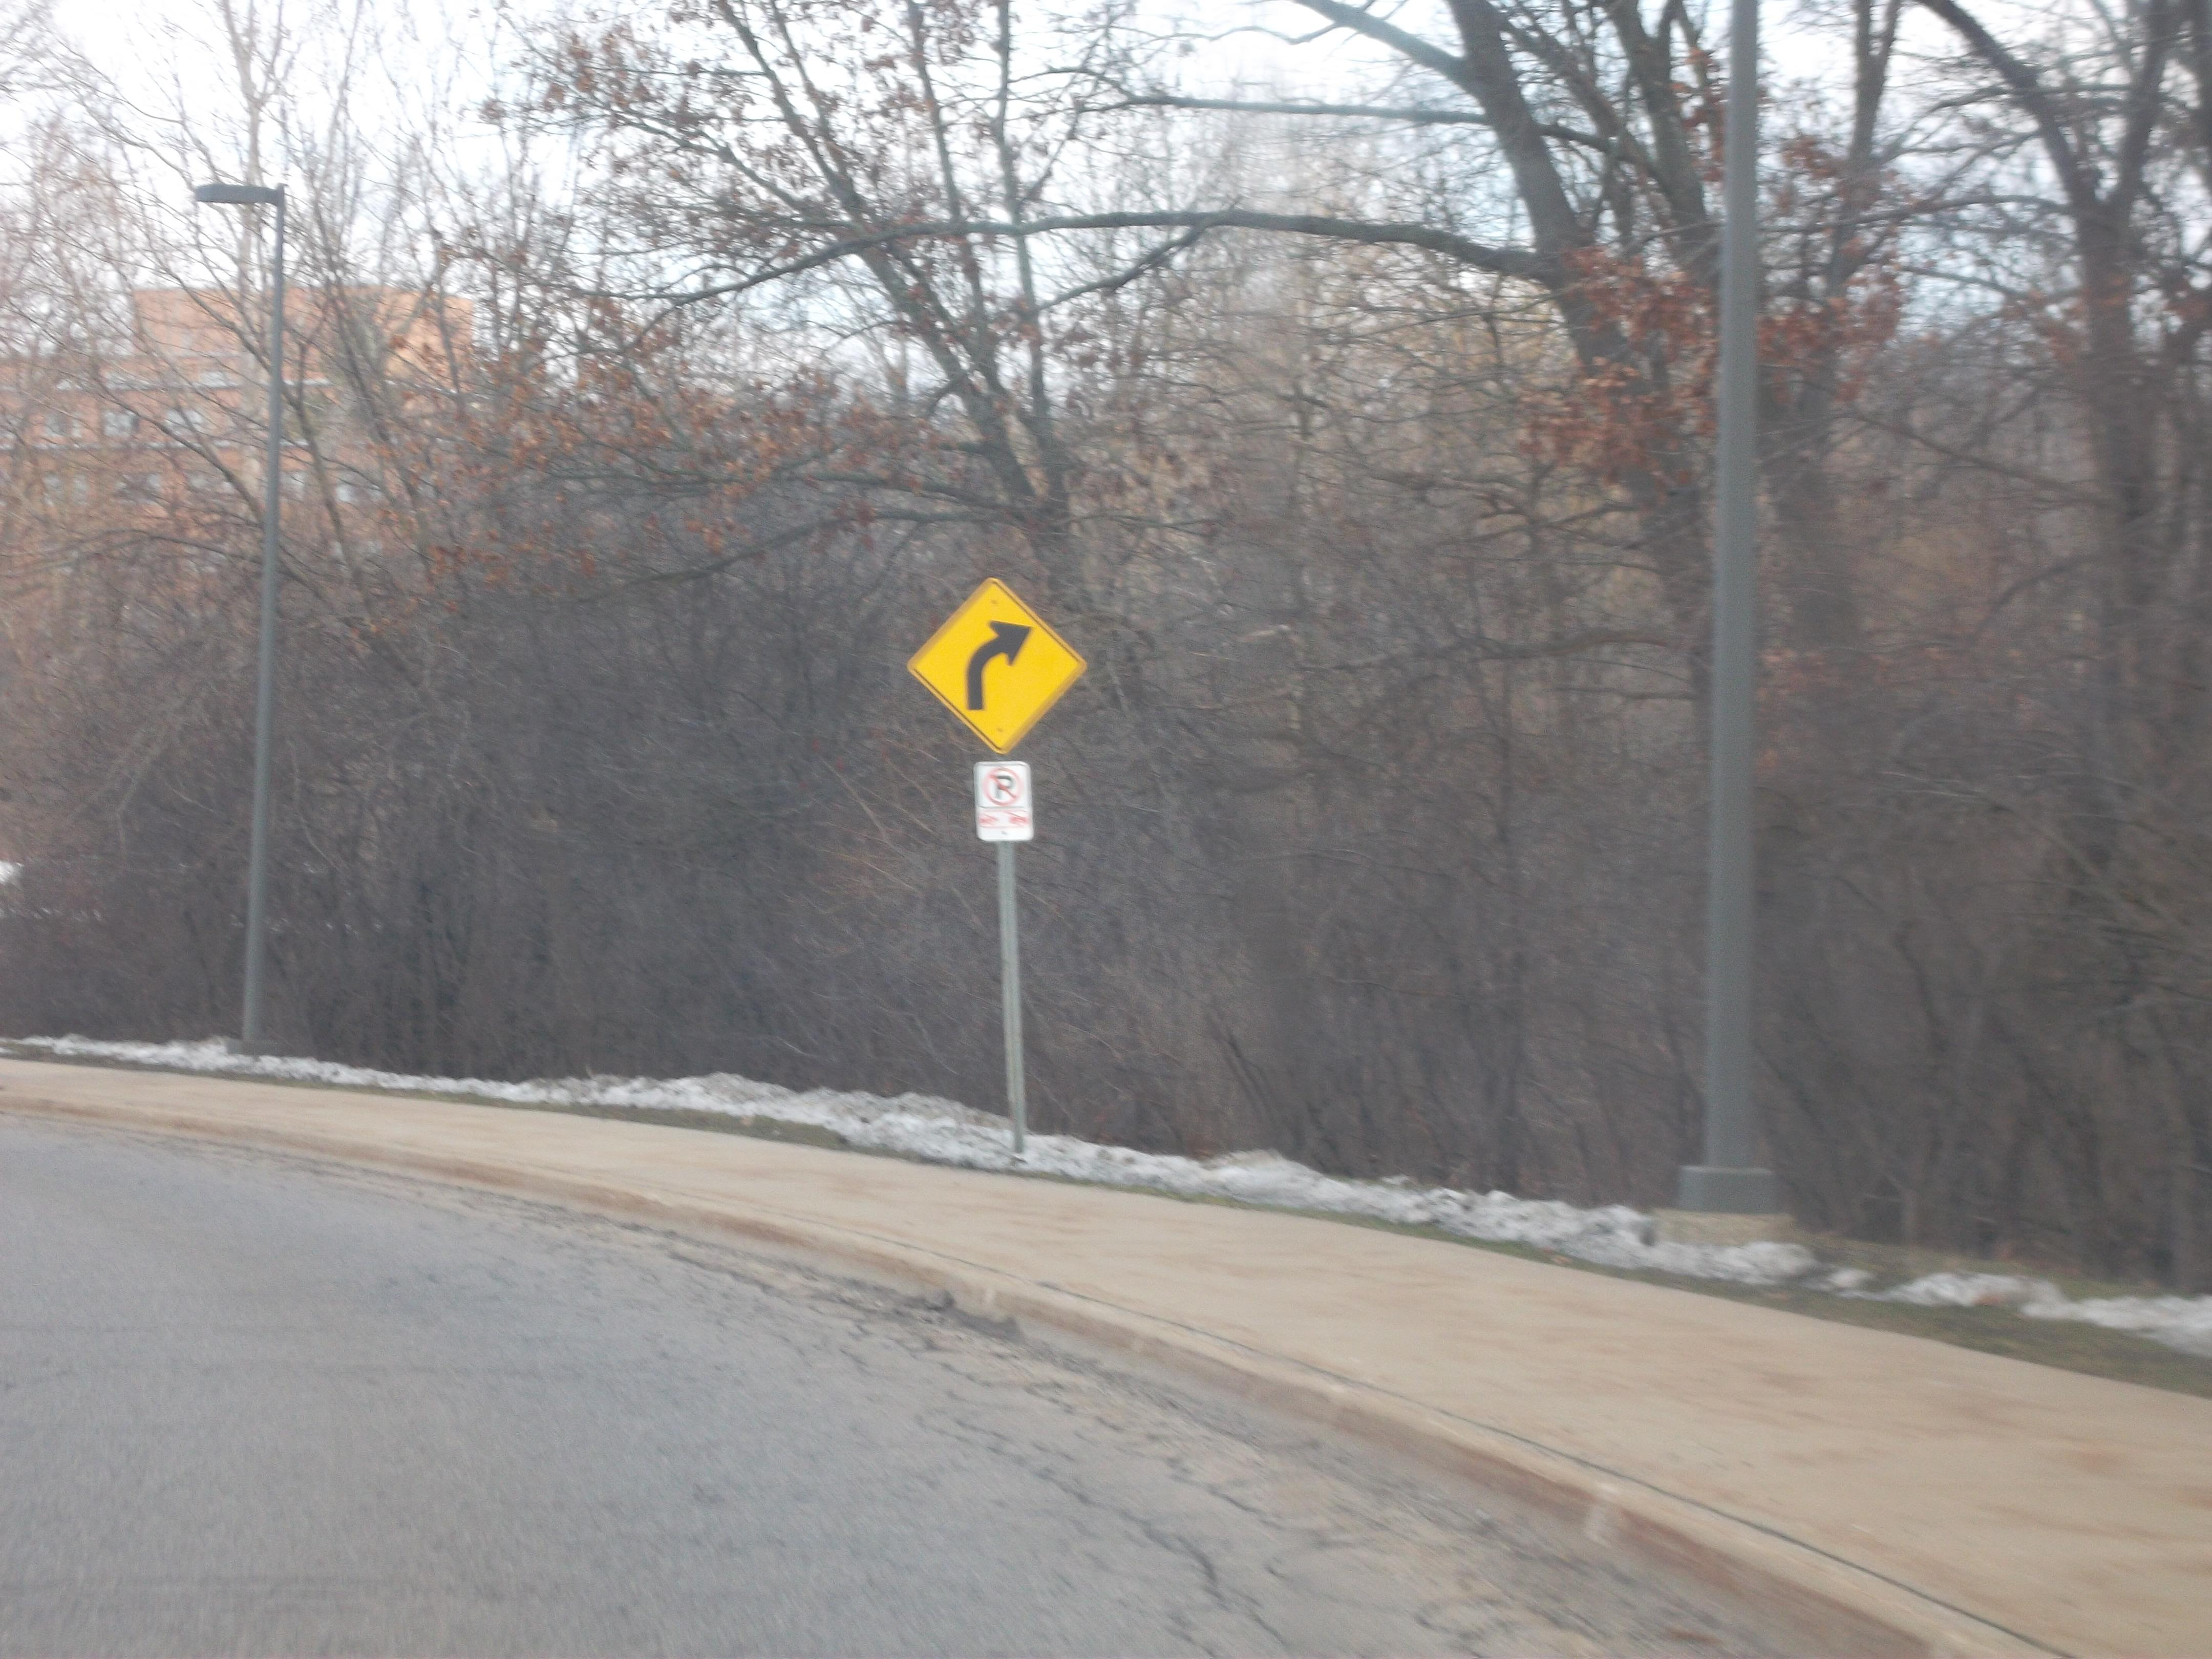regulatory: (974, 758, 1038, 842)
warning: (907, 577, 1087, 753)
